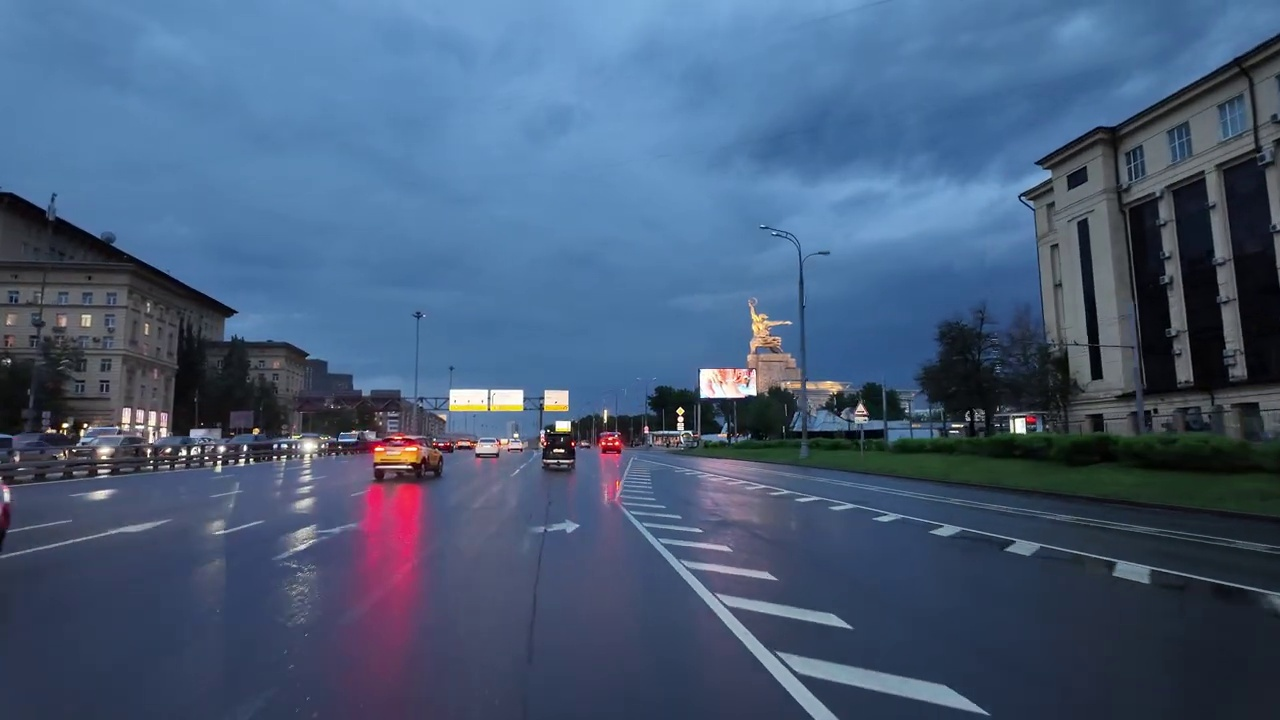apagada: (760, 221, 789, 248), (814, 242, 834, 262)
